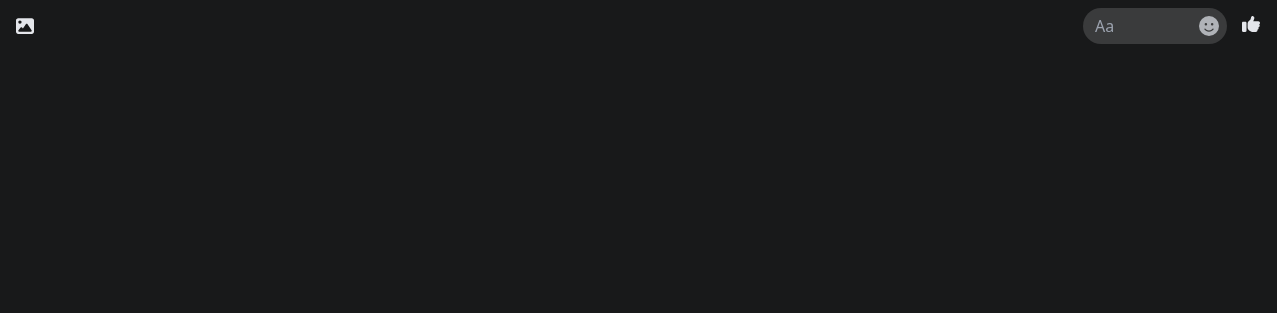
Test: CreateMessage component tests › can open emojis list and add one to message
Type "Hello " into the field named "Message input" at (1145, 26), box [1091, 16, 1199, 36]
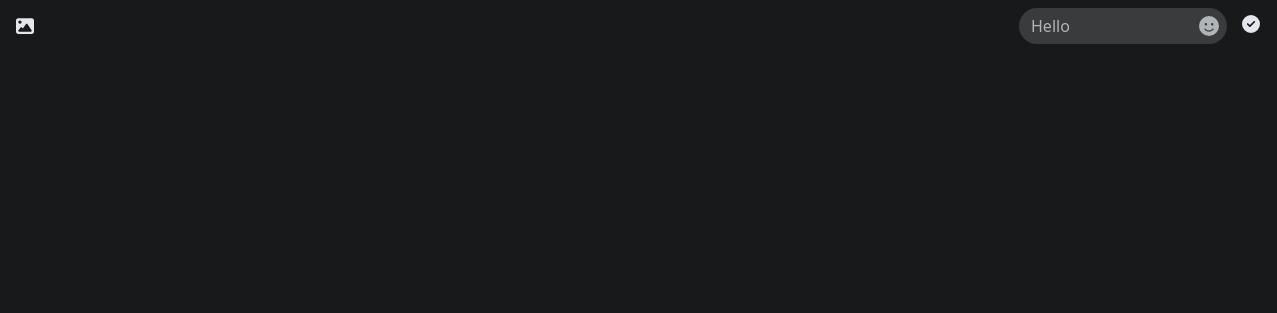
Click the button named "Choose an emoji" at (1209, 26), box [1199, 16, 1219, 36]
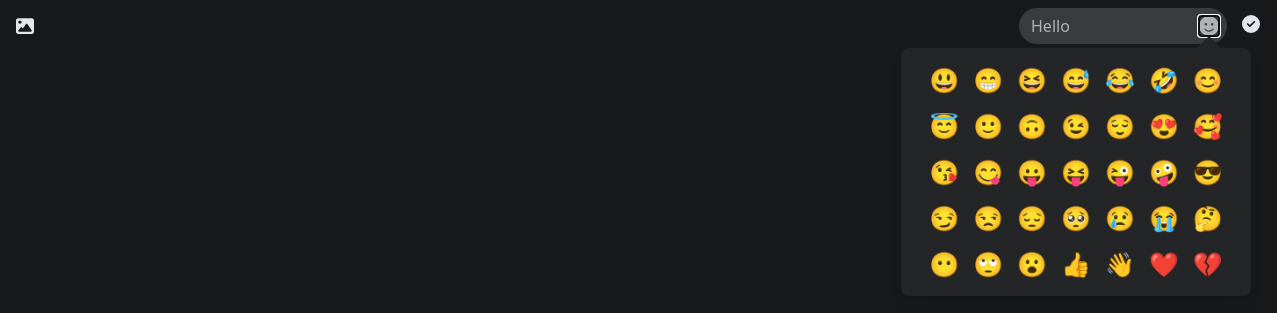
Expected: the list named "Emojis list" is shown, [901, 48, 1251, 296]
Click the button "👋" at (1120, 264), box [1101, 244, 1139, 284]
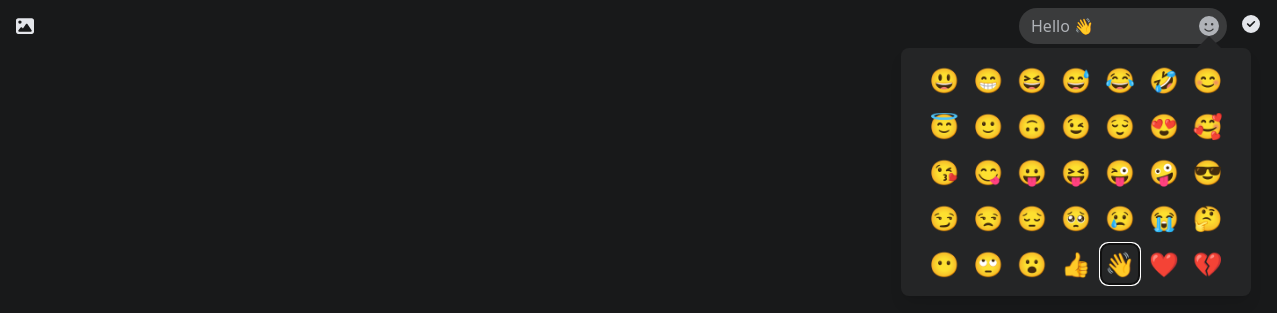
Expected: the field named "Message input" holds "Hello 👋", [1027, 16, 1199, 36]
